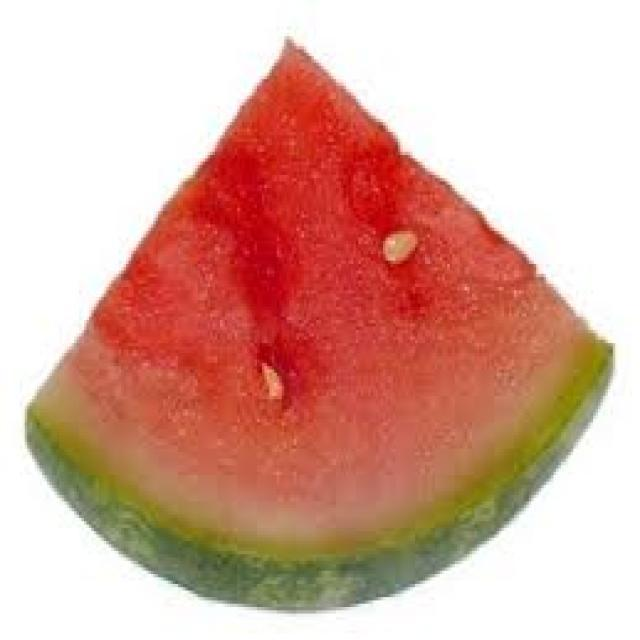Watermelon: (24, 19, 626, 614)
